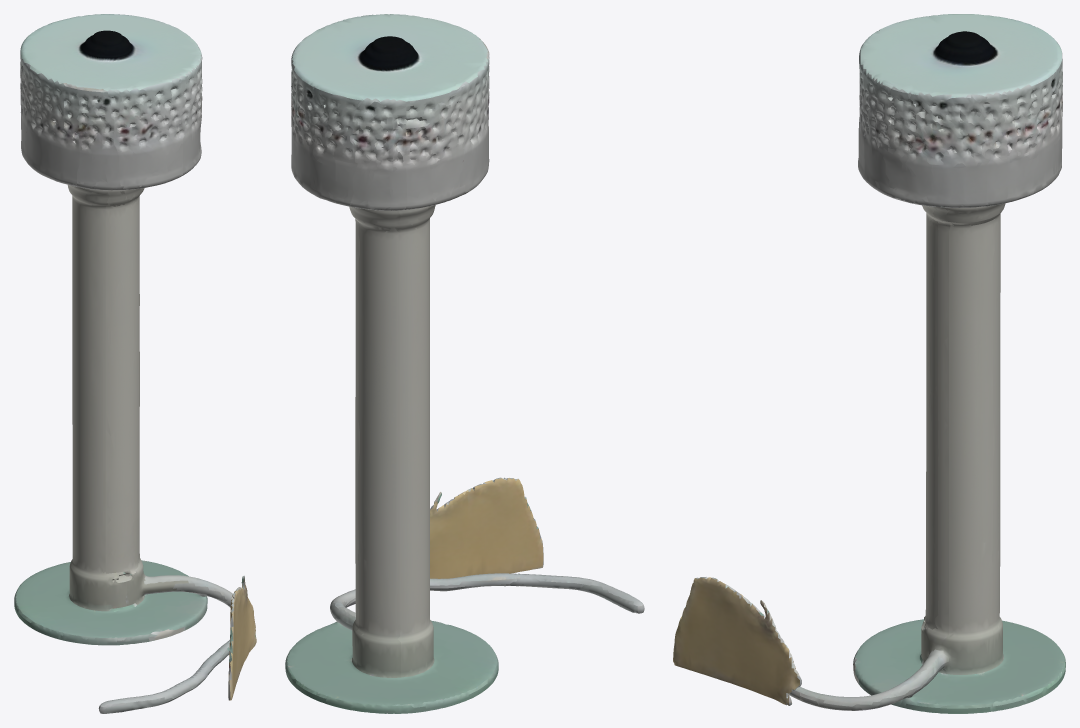
The picture shows the model from 3 angles, left to right: view 1: azimuth 30°, elevation 25°; view 2: azimuth 150°, elevation 25°; view 3: azimuth 270°, elevation 25°; orthographic projection. The views are drawn at different scales.
Parts seen in each view (by area): view 1: tmpdx7xcyjc.ply; view 2: tmpdx7xcyjc.ply; view 3: tmpdx7xcyjc.ply.
Boxes of the visible parts, x1,y1,x2,y2 form: tmpdx7xcyjc.ply: (14, 14, 256, 713); tmpdx7xcyjc.ply: (285, 14, 644, 713); tmpdx7xcyjc.ply: (673, 14, 1065, 713).
Bounding box in the file's own units: 0.7645 × 1.99 × 1.12.
Materials: 1 (1 with a texture image).
